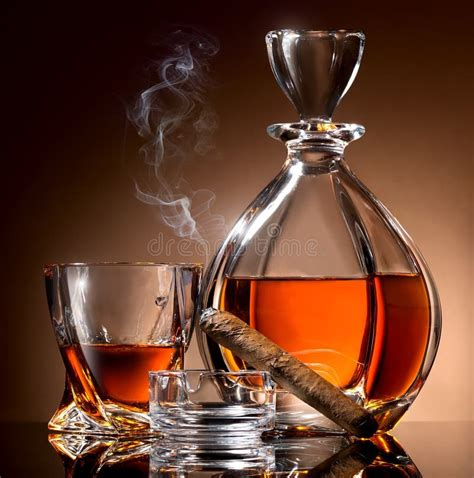alcohol: (208, 32, 442, 440), (41, 264, 205, 448)
cigarette: (193, 310, 385, 439)
